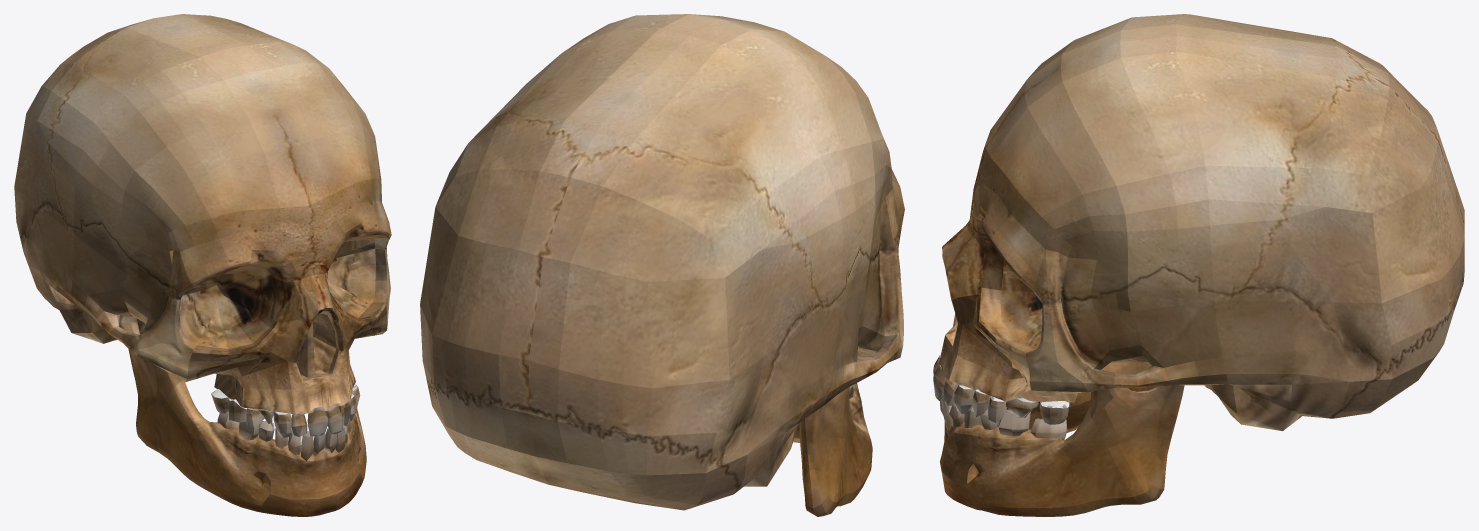
File: skull.fbx
3 renders of one model, left to right at view 1: azimuth 30°, elevation 25°; view 2: azimuth 150°, elevation 25°; view 3: azimuth 270°, elevation 25°, orthographic. The views are drawn at different scales.
Visible parts, largest first — view 1: _Skull_v3_L2:_Skull_v6; view 2: _Skull_v3_L2:_Skull_v6; view 3: _Skull_v3_L2:_Skull_v6.
Boxes of the visible parts, <box> form: _Skull_v3_L2:_Skull_v6: <box>14,14,391,516</box>; _Skull_v3_L2:_Skull_v6: <box>420,14,904,516</box>; _Skull_v3_L2:_Skull_v6: <box>933,14,1464,516</box>.
Bounding box in the file's own units: 19.74 × 27.48 × 29.38.
1 material, 1 textured.
